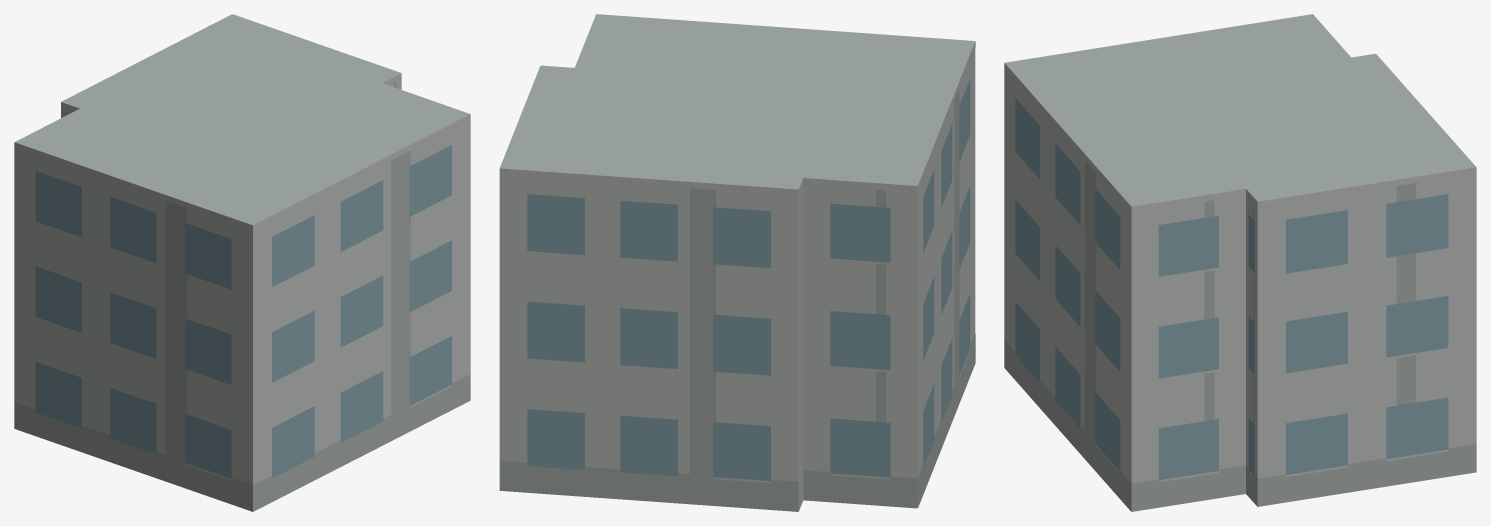
File: residential-979e0074-599a-492e-a36b-3e3d9138aadd.glb
3 views of the same model, side by side, from view 1: azimuth 30°, elevation 25°; view 2: azimuth 150°, elevation 25°; view 3: azimuth 270°, elevation 25° (orthographic). The views are drawn at different scales.
Visible parts, largest first — view 1: residential-979e0074-599a-492e-a36b-3e3d9138aadd.tmp; view 2: residential-979e0074-599a-492e-a36b-3e3d9138aadd.tmp; view 3: residential-979e0074-599a-492e-a36b-3e3d9138aadd.tmp.
Boxes of the visible parts, x1=… form: residential-979e0074-599a-492e-a36b-3e3d9138aadd.tmp: x1=14, y1=14, x2=470, y2=511; residential-979e0074-599a-492e-a36b-3e3d9138aadd.tmp: x1=499, y1=14, x2=975, y2=511; residential-979e0074-599a-492e-a36b-3e3d9138aadd.tmp: x1=1004, y1=14, x2=1476, y2=511.
Bounding box in the file's own units: 16.27 × 12 × 16.84.
